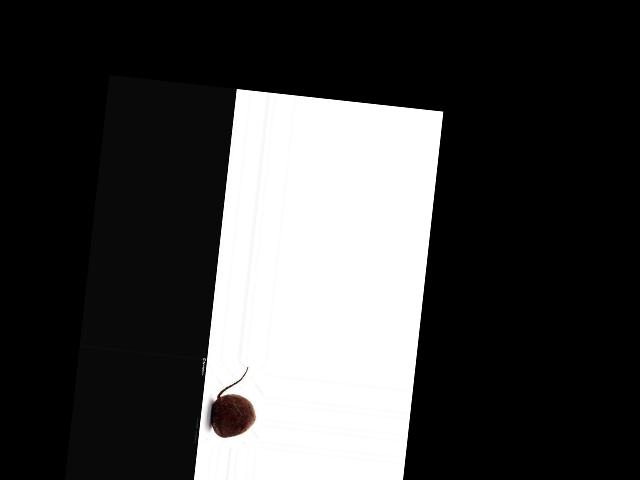beet: (208, 364, 260, 441)
